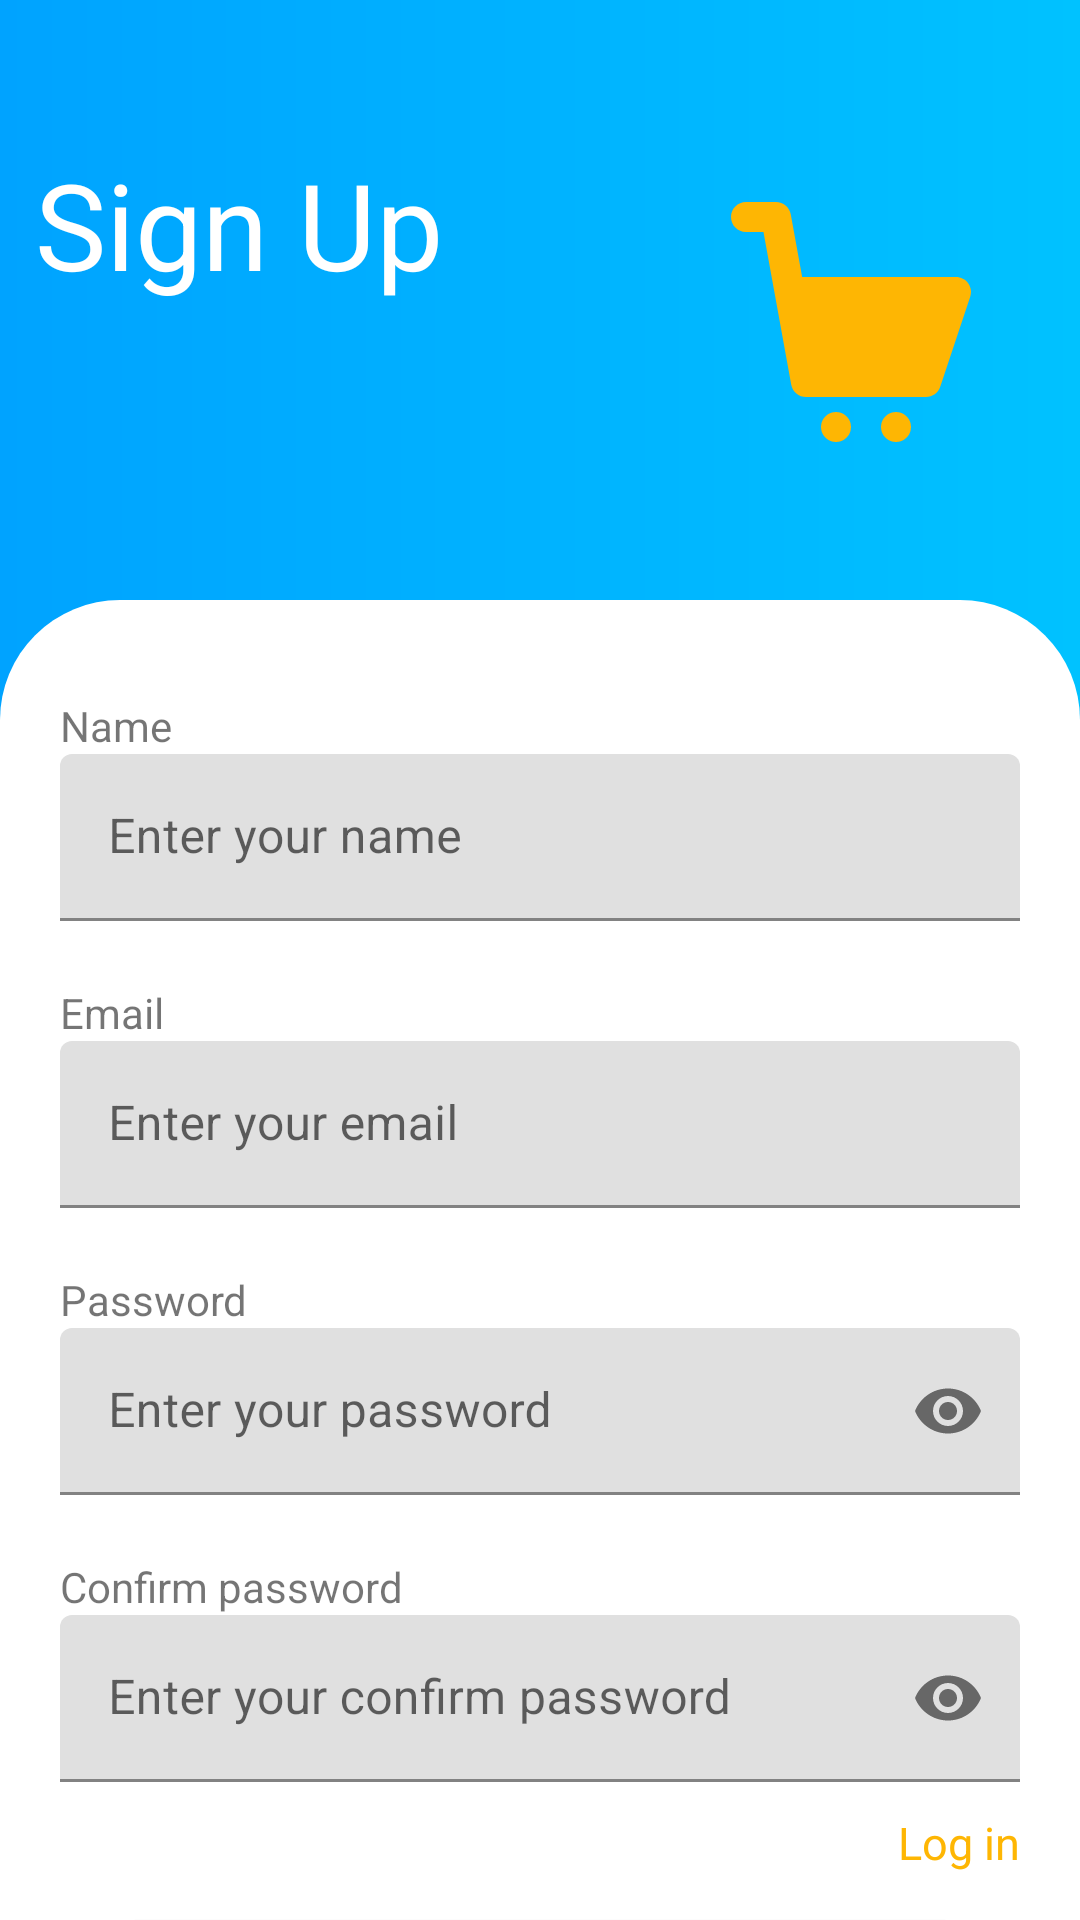

Where icons sit on this 1080*1920 app screen, as (x1, y1, x2, y2):
login shopping cart: (731, 202, 971, 442)
